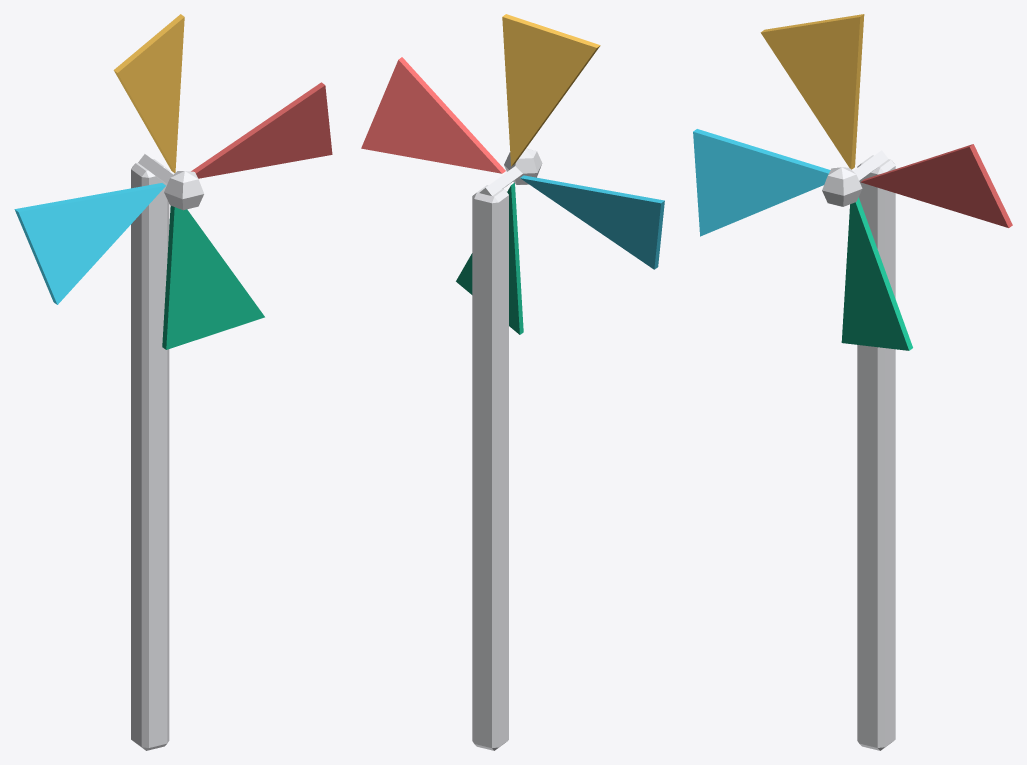
Rendered from pinwheel.glb.
3 views of the same model, side by side, from view 1: azimuth 30°, elevation 25°; view 2: azimuth 150°, elevation 25°; view 3: azimuth 330°, elevation 25° (orthographic). The views are drawn at different scales.
Parts seen in each view (by area): view 1: spin-m, pinwheel-m; view 2: spin-m, pinwheel-m; view 3: spin-m, pinwheel-m.
Part boxes in pixels (x1,y1,x2,y2): spin-m: (14, 14, 332, 349); pinwheel-m: (131, 159, 169, 750); spin-m: (361, 14, 664, 334); pinwheel-m: (472, 185, 508, 750); spin-m: (693, 14, 1012, 350); pinwheel-m: (857, 155, 895, 750).
Size of the model in its own units: 0.68 by 1.54 by 0.1924.
